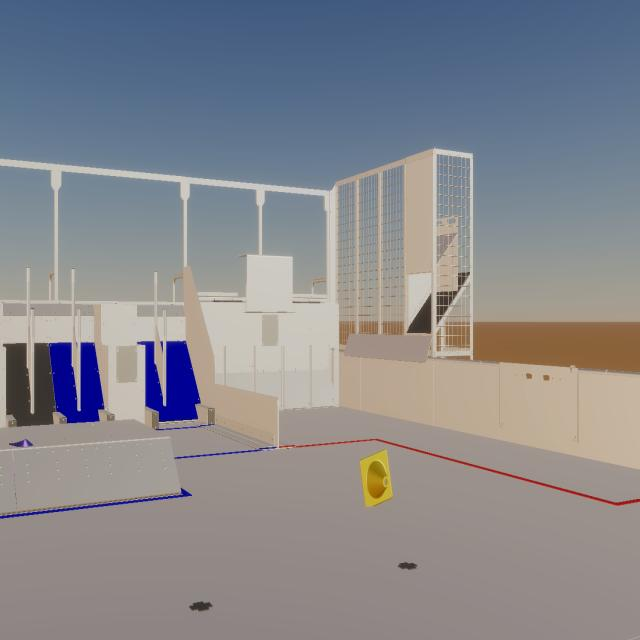frc_cone: (360, 449, 392, 507)
